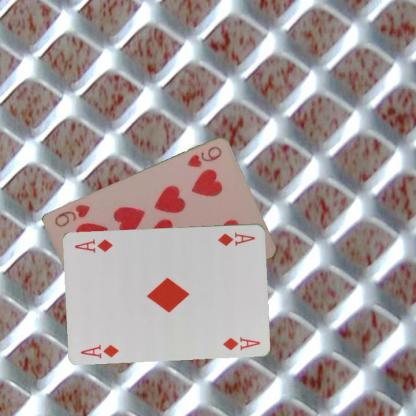9h: (185, 142, 223, 168)
Ad: (78, 341, 120, 360), (216, 230, 256, 248)
